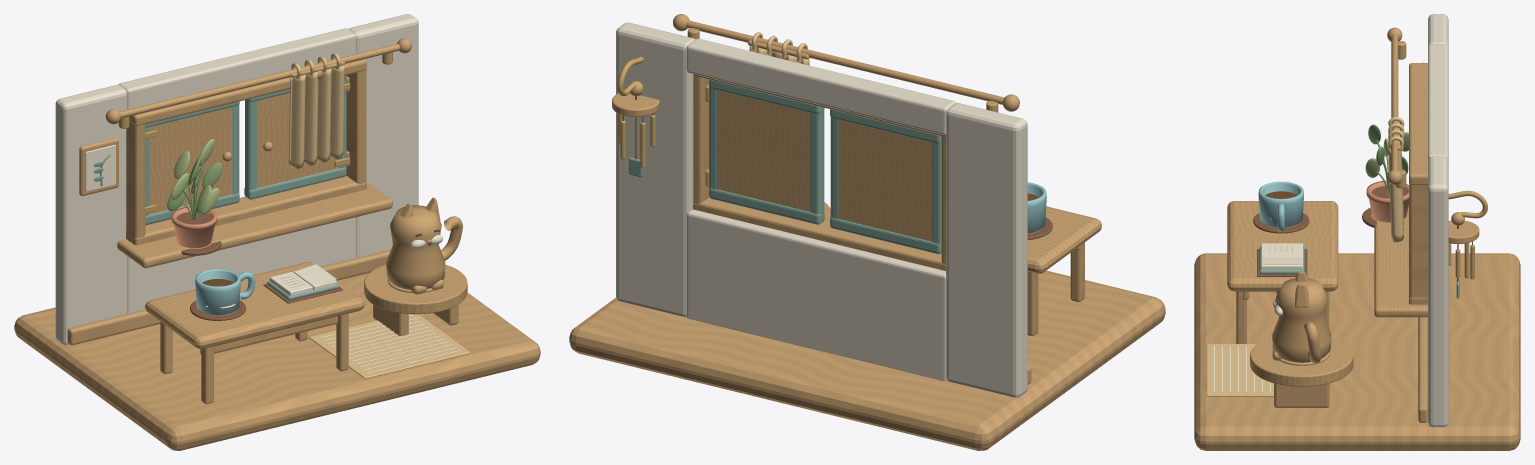
The model's file is window-breeze.glb.
3 views of the same model, side by side, from view 1: azimuth 30°, elevation 25°; view 2: azimuth 150°, elevation 25°; view 3: azimuth 270°, elevation 25° (orthographic). The views are drawn at different scales.
Visible parts, largest first — view 1: Thick rounded ash foundation, Limewashed wall pier, Limewashed wall pier.001, Wall under window, Table rounded top, Wall lintel, Deep window sill, Uninstalled wooden shutter cover, Curtain • soft scalloped hem, Small woven floor mat, Cat • carved continuous silhouette, Window frame rail (+22 smaller); view 2: Thick rounded ash foundation, Wall under window, Limewashed wall pier, Limewashed wall pier.001, Wall lintel, Uninstalled wooden shutter cover, Uninstalled wooden shutter cover.001, Window frame rail, Table rounded top, Curtain rod, Deep window jamb.001, Shutter stile.003 (+12 smaller); view 3: Thick rounded ash foundation, Table rounded top, Limewashed wall pier.001, Deep window sill, Cat • carved continuous silhouette, Cat round sitting platform, Small woven floor mat, Wall lintel, Window frame rail.001, Deep window jamb.001, Cup • rounded lip and thick inner wall, Cat seat foot.001 (+14 smaller).
Boxes of the visible parts, box(x1,y1,x2,y2) form: Thick rounded ash foundation: box(14, 273, 540, 450); Limewashed wall pier: box(55, 85, 127, 344); Limewashed wall pier.001: box(348, 14, 418, 257); Wall under window: box(127, 217, 356, 313); Table rounded top: box(145, 262, 364, 349); Wall lintel: box(118, 28, 356, 109); Deep window sill: box(117, 181, 392, 268); Uninstalled wooden shutter cover: box(149, 107, 232, 214); Curtain • soft scalloped hem: box(288, 65, 344, 169); Small woven floor mat: box(309, 314, 470, 378); Cat • carved continuous silhouette: box(386, 205, 445, 289); Window frame rail: box(126, 175, 366, 245); Thick rounded ash foundation: box(569, 270, 1165, 450); Wall under window: box(686, 209, 946, 380); Limewashed wall pier: box(946, 103, 1027, 397); Limewashed wall pier.001: box(616, 22, 695, 317); Wall lintel: box(686, 38, 956, 135); Uninstalled wooden shutter cover: box(838, 120, 932, 241); Uninstalled wooden shutter cover.001: box(717, 90, 810, 211); Window frame rail: box(693, 197, 945, 270); Table rounded top: box(1027, 206, 1101, 273); Curtain rod: box(686, 20, 1004, 104); Deep window jamb.001: box(693, 75, 709, 203); Shutter stile.003: box(810, 107, 824, 219); Thick rounded ash foundation: box(1194, 253, 1520, 450); Table rounded top: box(1227, 201, 1338, 291); Limewashed wall pier.001: box(1428, 156, 1448, 427); Deep window sill: box(1374, 205, 1427, 317); Cat • carved continuous silhouette: box(1272, 278, 1331, 362); Cat round sitting platform: box(1250, 337, 1353, 386); Small woven floor mat: box(1206, 344, 1273, 396); Wall lintel: box(1428, 44, 1448, 161); Window frame rail.001: box(1409, 63, 1427, 184); Deep window jamb.001: box(1409, 184, 1427, 297); Cup • rounded lip and thick inner wall: box(1258, 181, 1303, 227); Cat seat foot.001: box(1274, 383, 1329, 407).
Bounding box in the file's own units: 5.65 × 3.85 × 4.28.
Materials: 14 (1 with a texture image).
